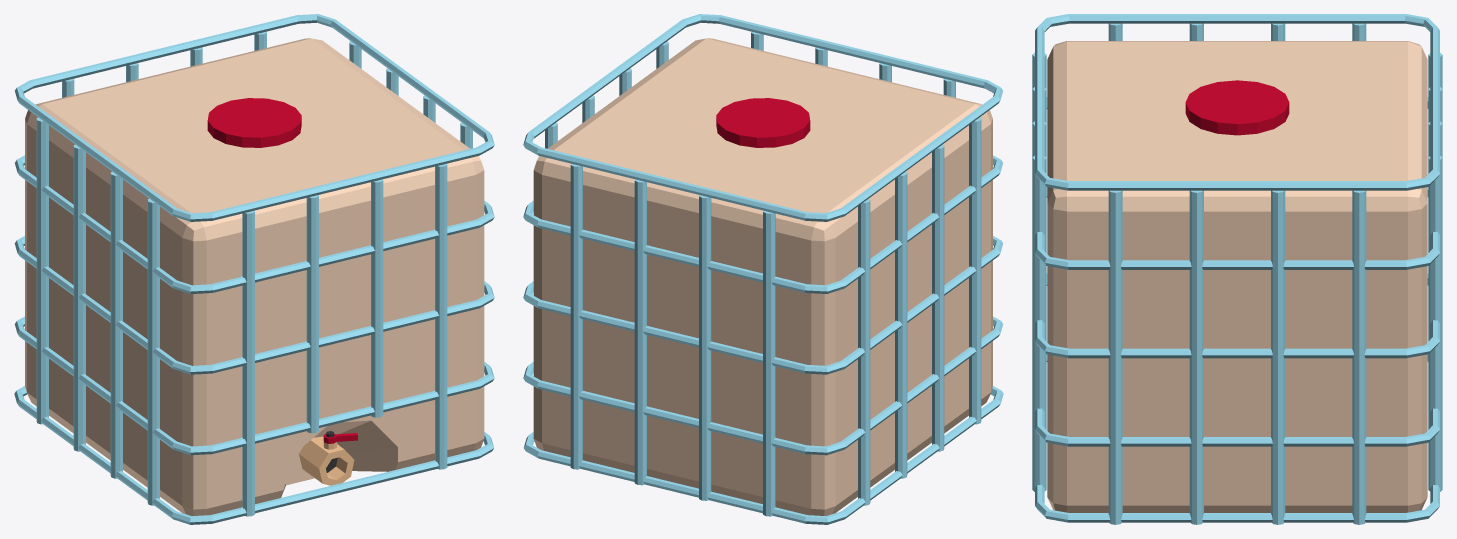
Rendered from WaterTank_1.fbx.
3 views of the same model, side by side, from view 1: azimuth 30°, elevation 25°; view 2: azimuth 150°, elevation 25°; view 3: azimuth 270°, elevation 25° (orthographic). The views are drawn at different scales.
Visible parts, largest first — view 1: WaterTank_1; view 2: WaterTank_1; view 3: WaterTank_1.
Boxes of the visible parts, x1,y1,x2,y2 form: WaterTank_1: (14,14,494,524); WaterTank_1: (523,14,1003,524); WaterTank_1: (1032,14,1442,524).
Bounding box in the file's own units: 168 × 157 × 168.
